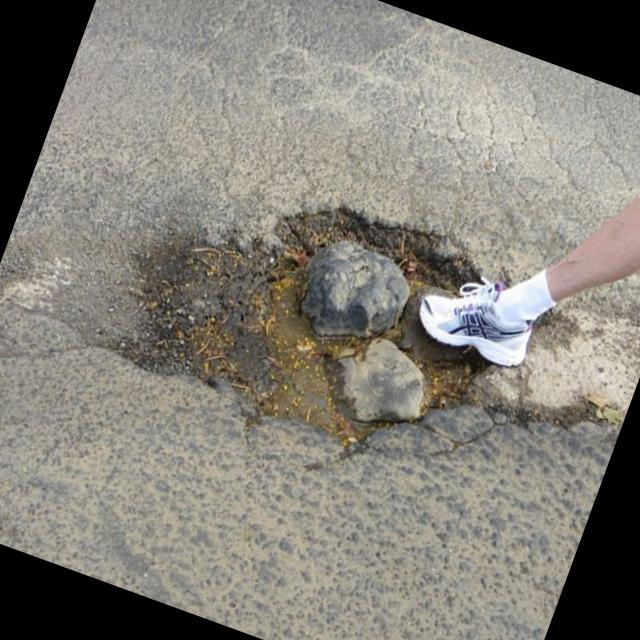Potholes: (83, 72, 640, 547)
